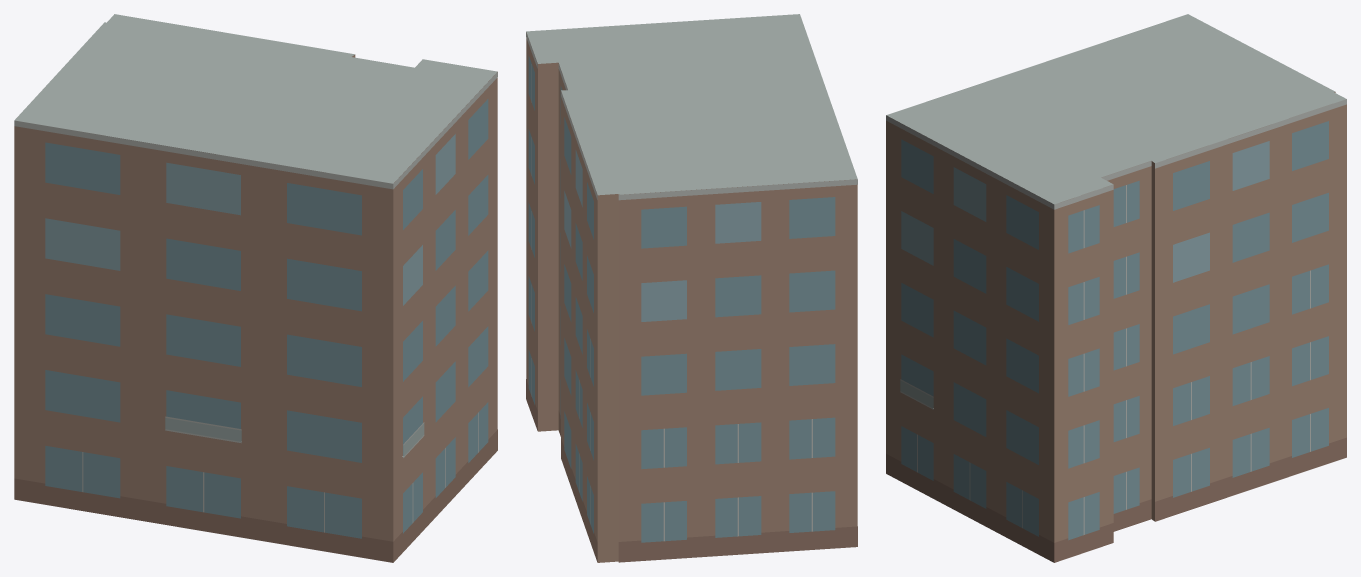
File: survey-upis-32530613.glb
The picture shows the model from 3 angles, left to right: view 1: azimuth 30°, elevation 25°; view 2: azimuth 150°, elevation 25°; view 3: azimuth 270°, elevation 25°; orthographic projection. The views are drawn at different scales.
Parts seen in each view (by area): view 1: survey-upis-32530613.tmp; view 2: survey-upis-32530613.tmp; view 3: survey-upis-32530613.tmp.
Part boxes in pixels (x1,y1,x2,y2): survey-upis-32530613.tmp: (14, 14, 497, 562); survey-upis-32530613.tmp: (526, 14, 857, 562); survey-upis-32530613.tmp: (886, 14, 1346, 562).
Size of the model in its own units: 18.69 by 16.4 by 19.11.
